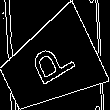P_SW: (23, 37, 78, 93)
